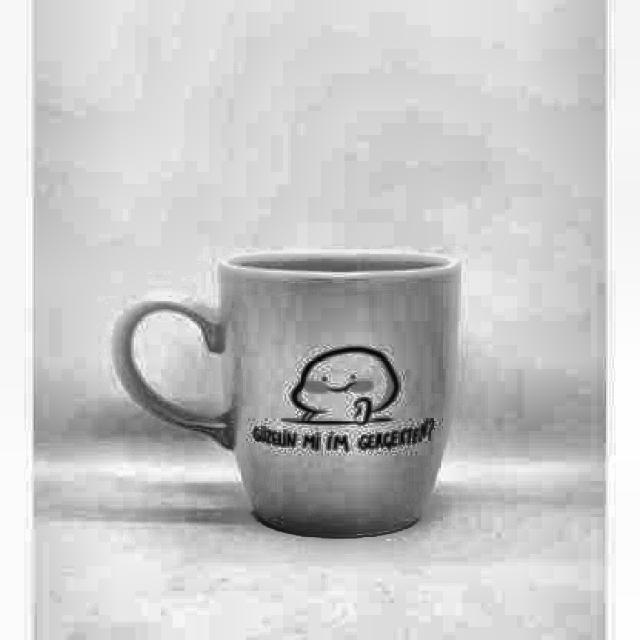Mug: (108, 248, 466, 540)
